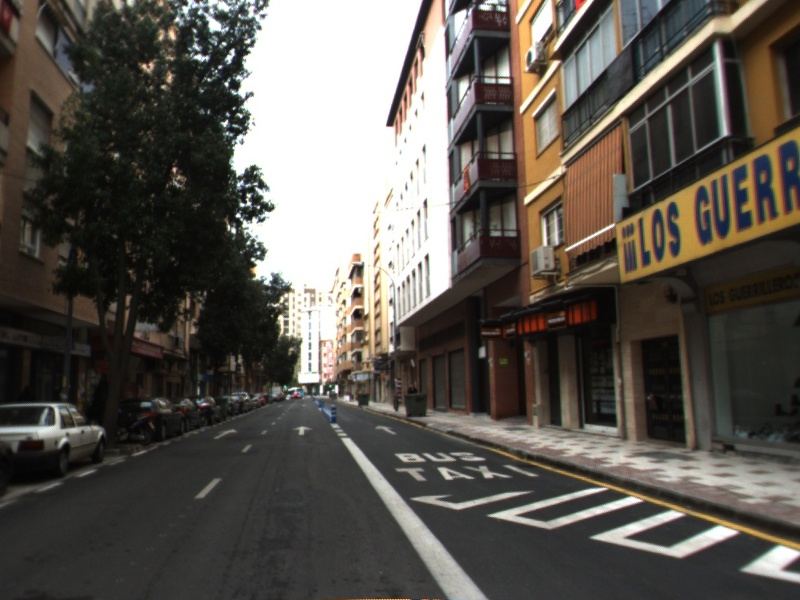STRAIGHT: (211, 426, 239, 441), (373, 423, 400, 437), (290, 423, 315, 437)
